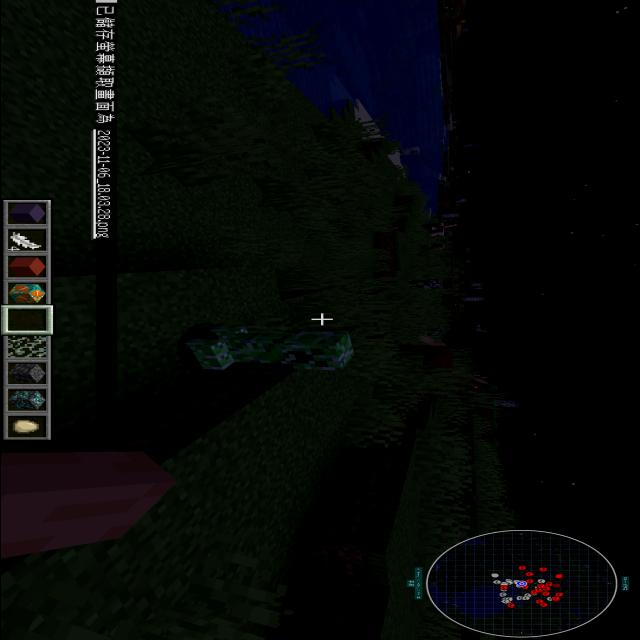Creeper: (172, 322, 356, 378)
Skeleton: (388, 146, 422, 160)
cow: (404, 278, 442, 292), (417, 326, 445, 338)
